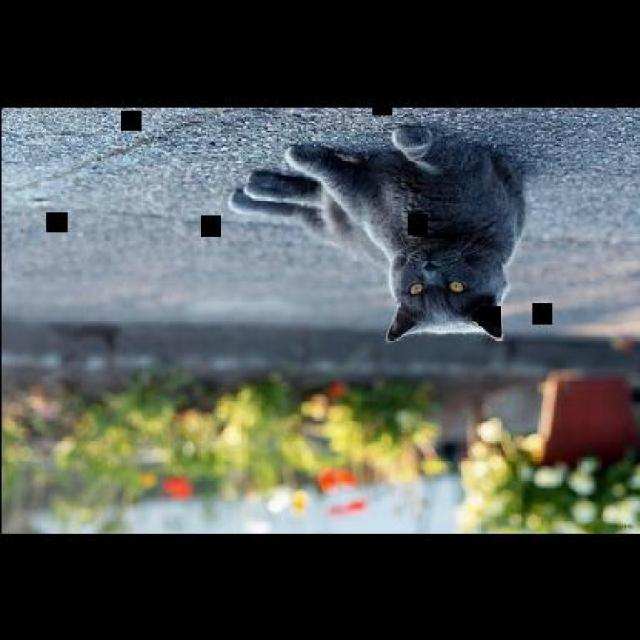unauthorized: (228, 121, 526, 342)
